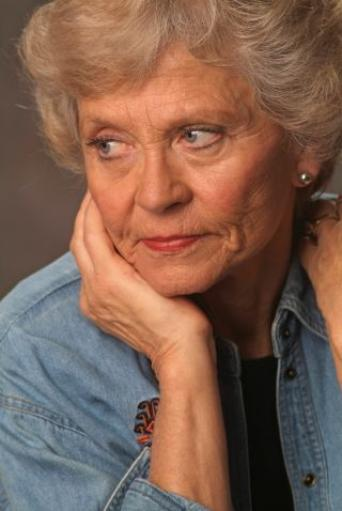left_eye: (178, 125, 224, 150)
left_lip_corner: (202, 230, 225, 247)
right_eye: (93, 139, 133, 163)
right_lip_corner: (135, 234, 147, 246)
